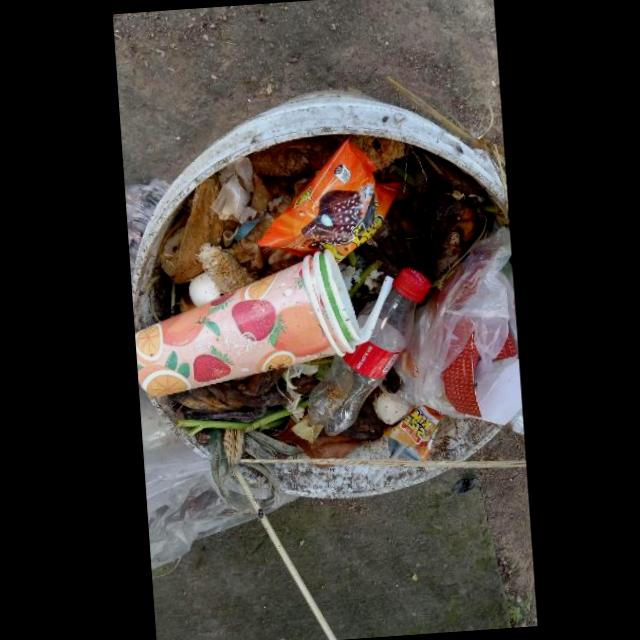bao_bi_thuc_pham: (256, 136, 398, 259)
carton: (134, 249, 360, 396)
chai_nhua_pet: (306, 266, 431, 436)
ong_hut_nhua: (359, 275, 393, 342)
thuc_an_thua: (198, 242, 251, 293)
vo_trung: (188, 268, 219, 306)
